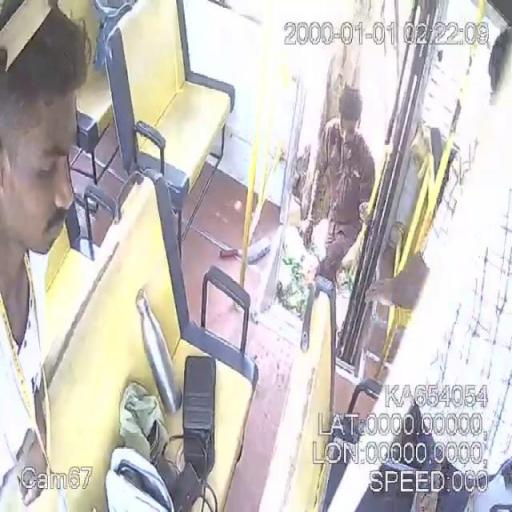persona: (367, 45, 512, 512), (0, 2, 91, 510), (298, 83, 376, 292)
